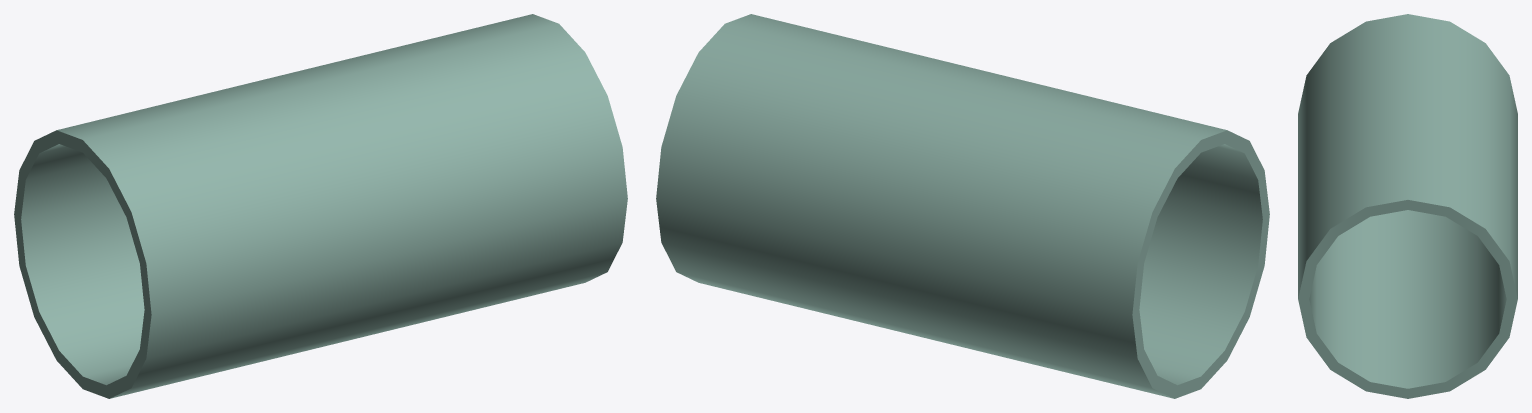
Rendered from PipeLarge_Hollow_Straight_L02.fbx.
The picture shows the model from 3 angles, left to right: view 1: azimuth 30°, elevation 25°; view 2: azimuth 150°, elevation 25°; view 3: azimuth 270°, elevation 25°; orthographic projection. The views are drawn at different scales.
Parts seen in each view (by area): view 1: PipeLarge_Hollow_Straight_L02.001; view 2: PipeLarge_Hollow_Straight_L02.001; view 3: PipeLarge_Hollow_Straight_L02.001.
Part boxes in pixels (x1=…): PipeLarge_Hollow_Straight_L02.001: x1=14, y1=14, x2=627, y2=398; PipeLarge_Hollow_Straight_L02.001: x1=656, y1=14, x2=1269, y2=398; PipeLarge_Hollow_Straight_L02.001: x1=1298, y1=14, x2=1517, y2=398.
Size of the model in its own units: 0.4 by 0.2 by 0.2.
